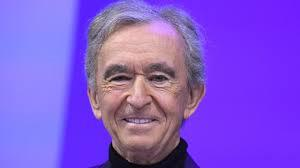Persons: (74, 0, 213, 162)
